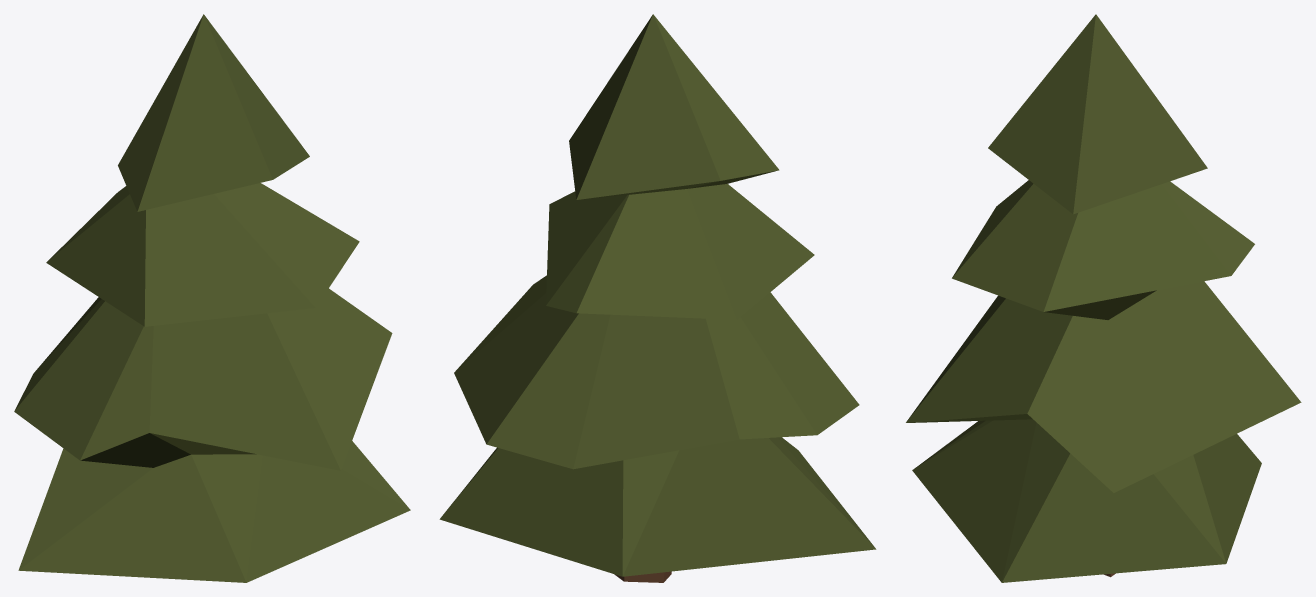
Rendered from TreeAutumn5_Alt2.fbx.
3 views of the same model, side by side, from view 1: azimuth 30°, elevation 25°; view 2: azimuth 150°, elevation 25°; view 3: azimuth 270°, elevation 25° (orthographic). The views are drawn at different scales.
Parts seen in each view (by area): view 1: TreeAutumn5_Alt2; view 2: TreeAutumn5_Alt2; view 3: TreeAutumn5_Alt2.
Part boxes in pixels (x1,y1,x2,y2): TreeAutumn5_Alt2: (14, 14, 410, 582); TreeAutumn5_Alt2: (439, 14, 876, 582); TreeAutumn5_Alt2: (906, 14, 1301, 582).
Bounding box in the file's own units: 1.27 × 1.72 × 1.13.
